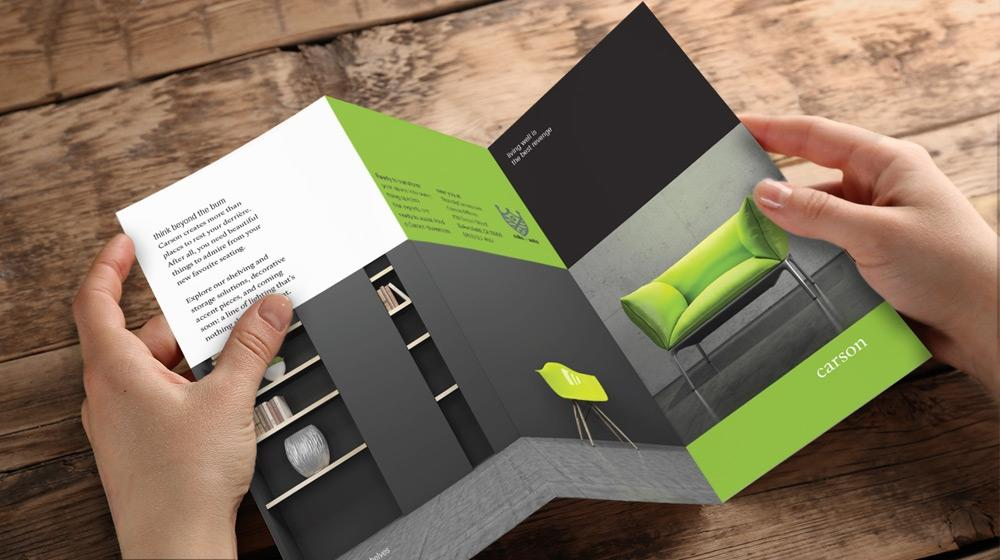paper: (117, 3, 930, 558)
